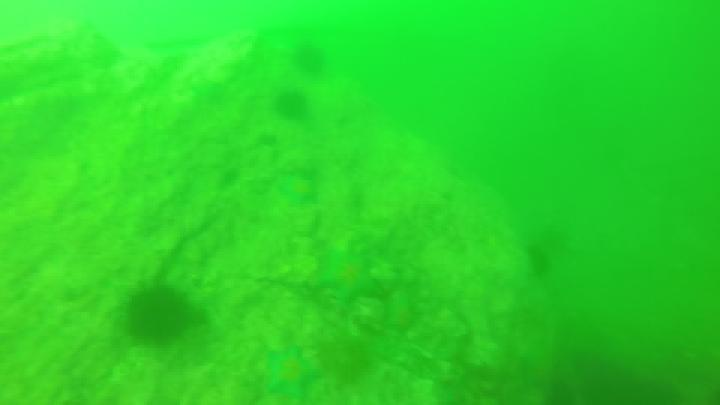echinus: (122, 288, 202, 337), (256, 350, 323, 401), (316, 254, 382, 300), (280, 88, 313, 115), (298, 44, 329, 70)
